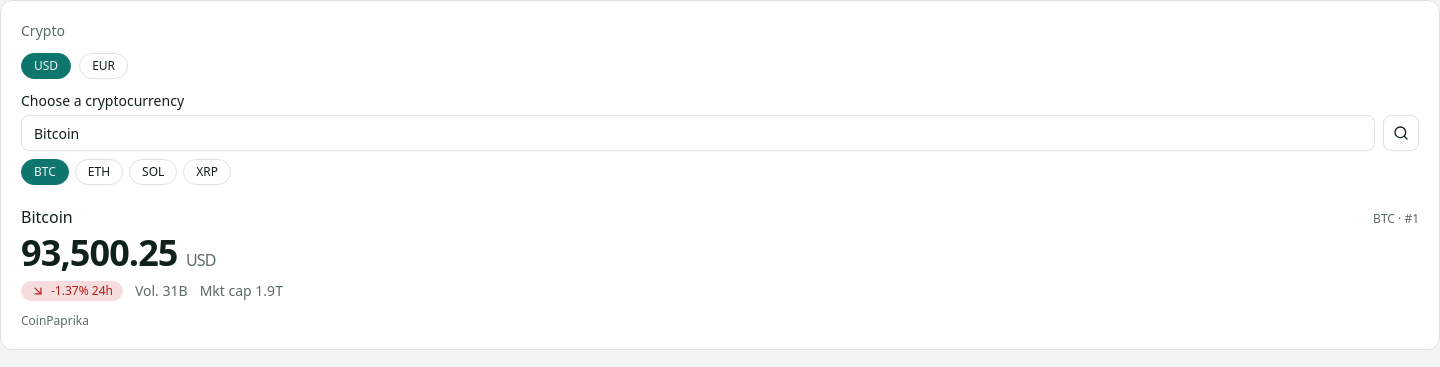
Test: CryptoCard › hides the optional fields when the API does not send them
This screenshot has width=1440, height=367.
Expected: the text "93,500.25" is shown, [21,228,178,277]
Click the button named "Show cryptocurrencies" at (1401, 133), box [1383,115,1419,151]
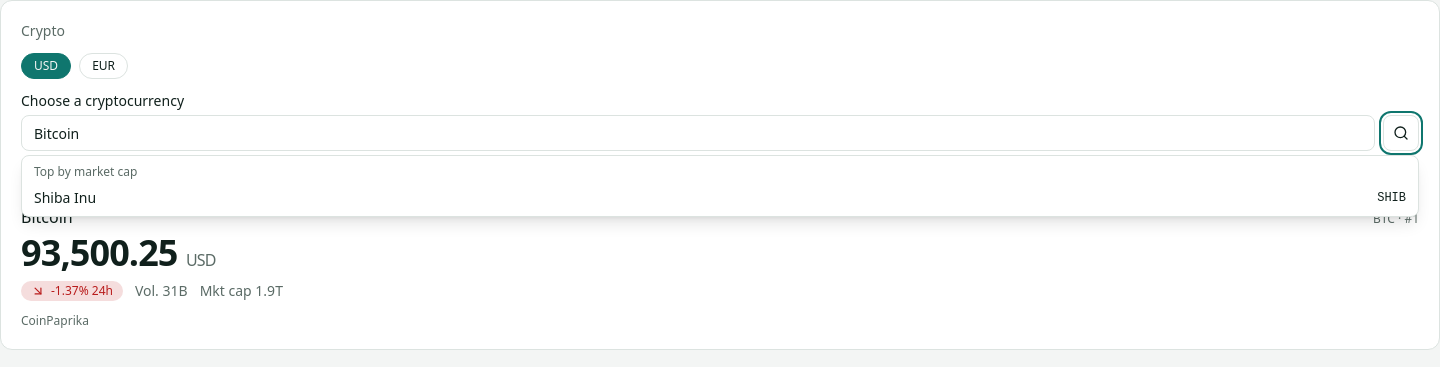
Click the option "Shiba Inu SHIB" at (65, 198), box [22,180,1418,216]
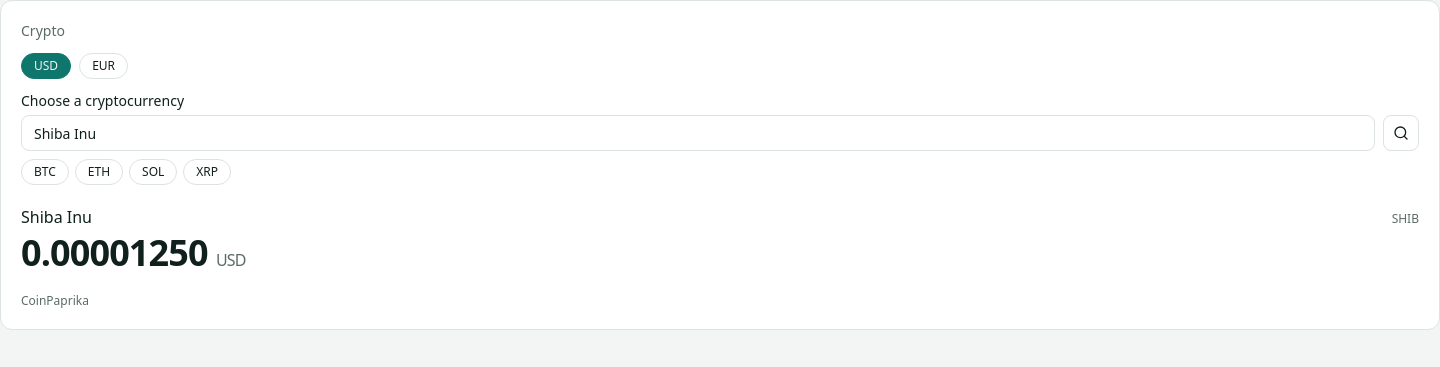
Result: the text "0.00001250" is shown at [21,228,208,277]
Result: the text "SHIB" is shown at [1392,211,1419,227]
Result: the text "24h" is gone
